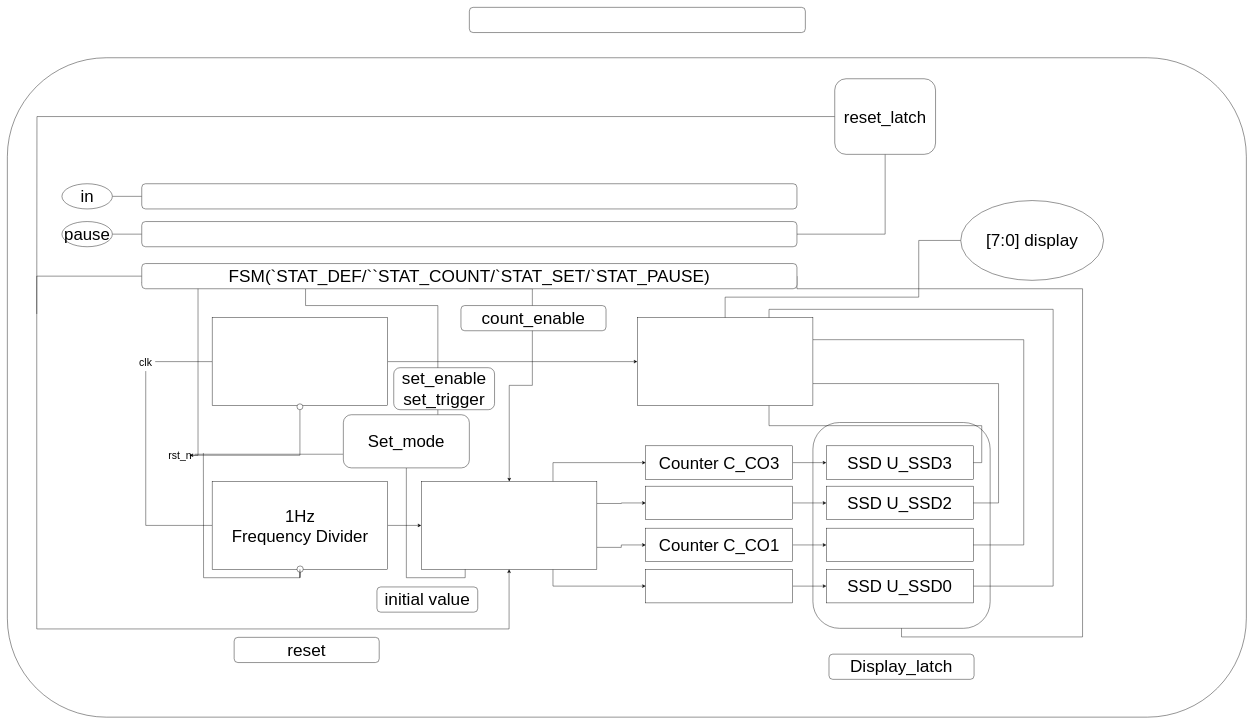
Image size: 1254x725. Some labels were removed from this diagram. The shapes that lost their labels are listed below. From the top down, each one's centre as x and y in pixels, then its label:
At [637,20]: "stopwatch_disp".
At [469,196]: "push_debounced / push_onepulse".
At [469,234]: "push_debounced_pause / push_onepulse_pause".
At [300,361]: "16-bit counter Frequency Divider".
At [725,361]: "ssd_ctl".
At [719,503]: "Counter C_CO2".
At [509,525]: "Stopwatch".
At [899,545]: "SSD U_SSD1".
At [719,586]: "Counter C_CO0".
